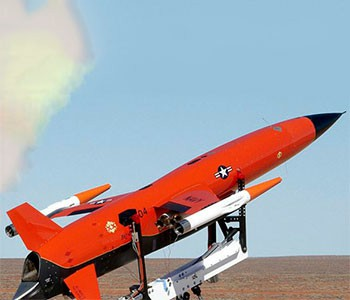maybay_khongnguoilai: (11, 112, 340, 300)
